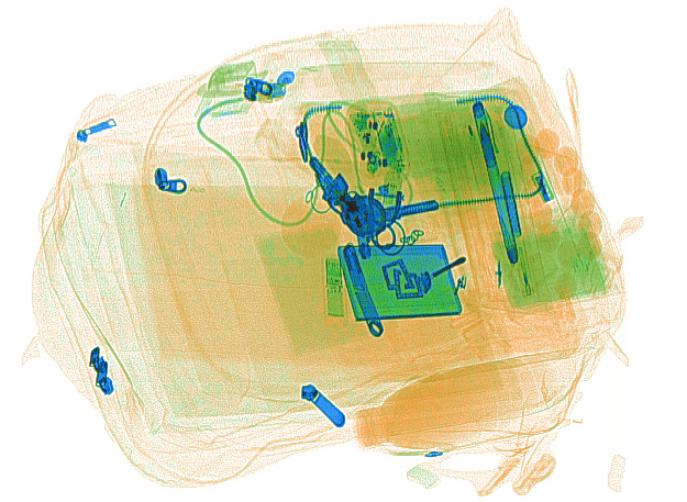USBFlashDisk: (322, 253, 348, 319)
